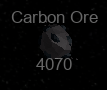Carbon: (12, 10, 99, 72)
